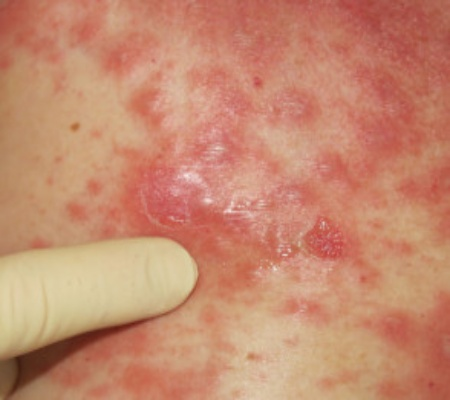SJS-TEN: (0, 1, 450, 400)
